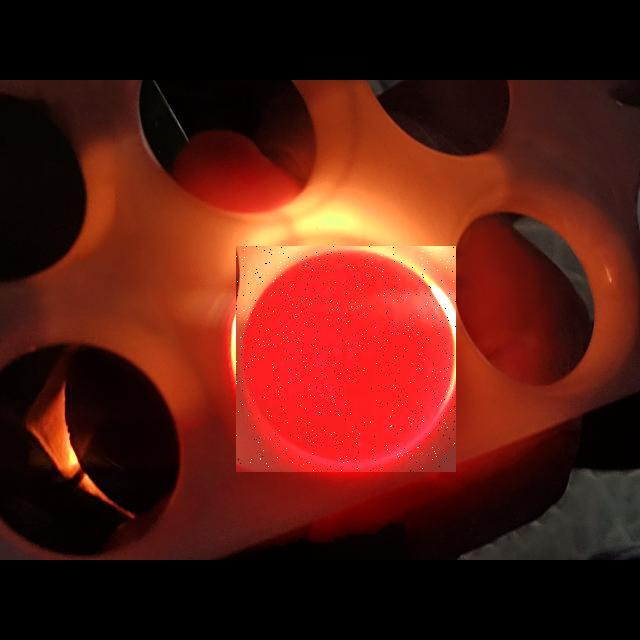Infertile: (236, 246, 456, 472)
